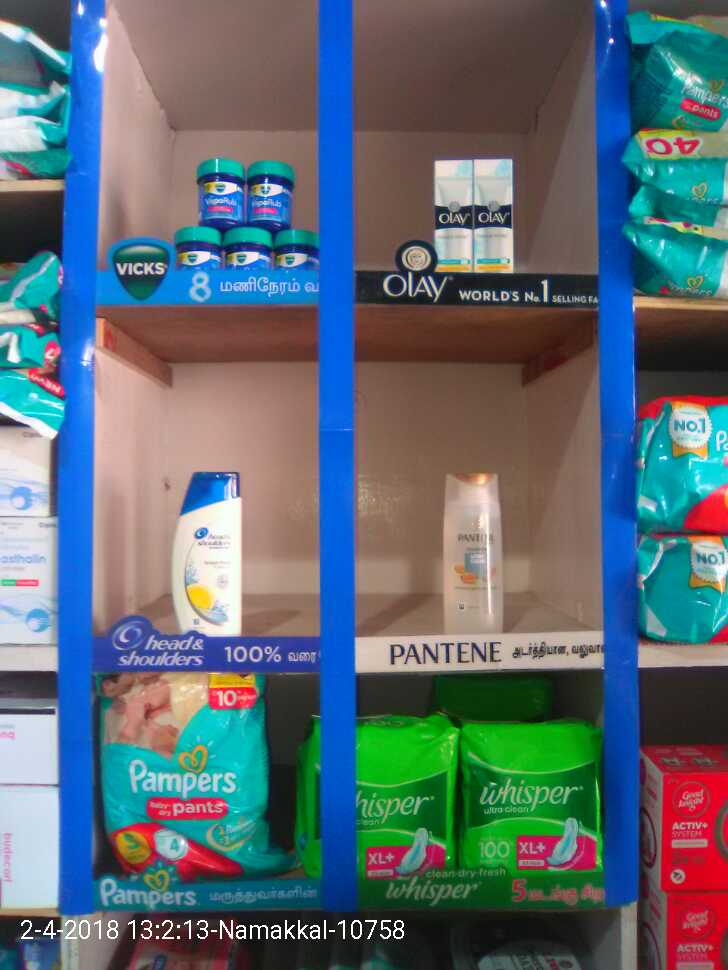vicks: (247, 158, 292, 226), (198, 158, 247, 220), (170, 227, 224, 273), (224, 230, 279, 273), (279, 230, 318, 272)
